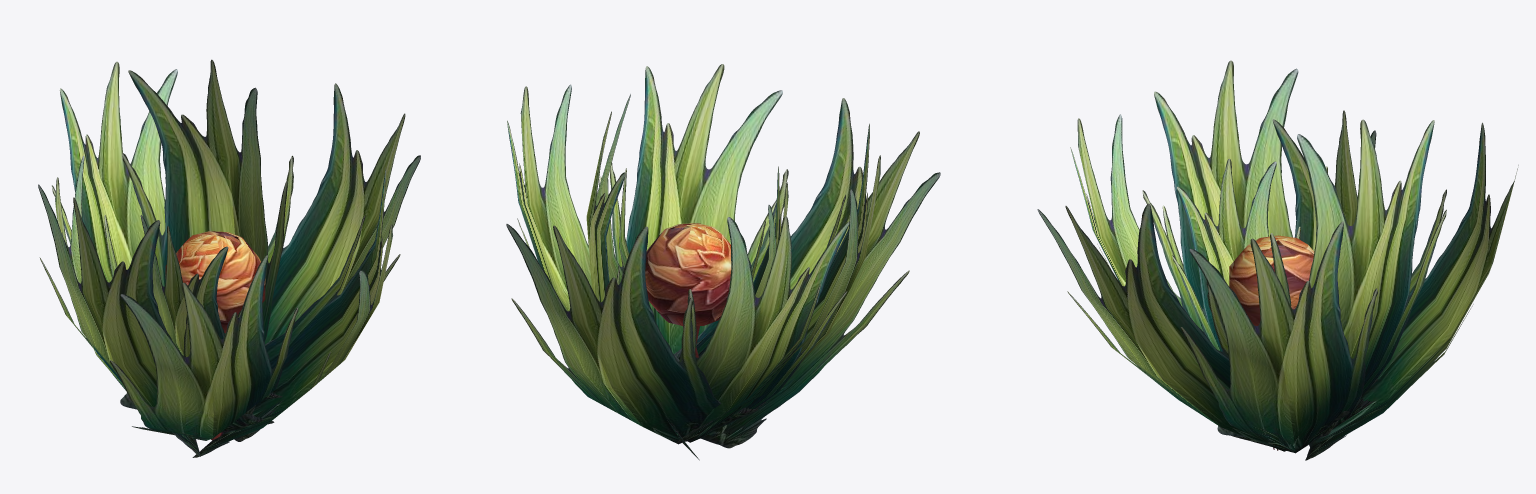
The model's file is Foliage_03.fbx.
3 views of the same model, side by side, from view 1: azimuth 30°, elevation 25°; view 2: azimuth 150°, elevation 25°; view 3: azimuth 270°, elevation 25° (orthographic). The views are drawn at different scales.
Visible parts, largest first — view 1: Leaf_03; view 2: Leaf_03; view 3: Leaf_03.
Boxes of the visible parts, <box> form: Leaf_03: <box>38,59,420,457</box>; Leaf_03: <box>506,64,940,460</box>; Leaf_03: <box>1037,60,1518,460</box>.
Size of the model in its own units: 160 by 154 by 182.
1 material, 1 textured.
